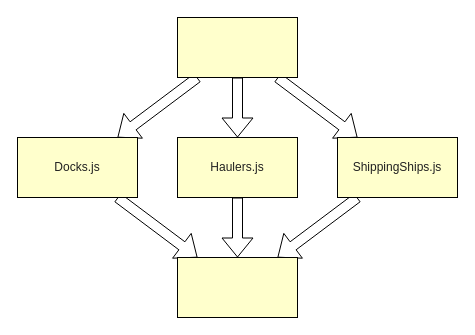
Image size: 475x335. Some labels were removed from this diagram. The centre of each missing label's shape, as x and y in pixels:
"database.js" belongs at point (237, 287).
"main.js" belongs at point (237, 47).
